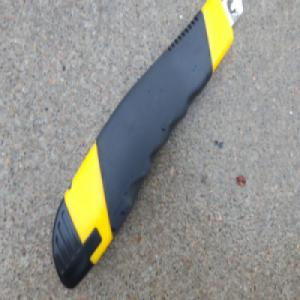Cutter: (51, 0, 247, 291)
